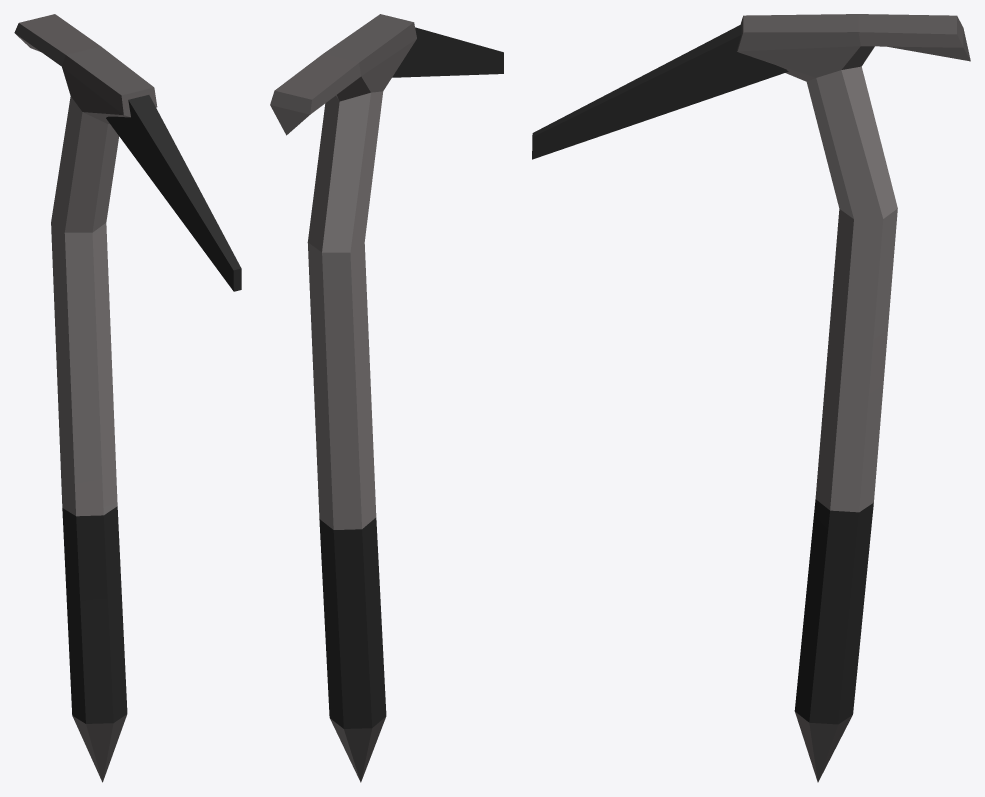
Rendered from ice-axe.glb.
3 views of the same model, side by side, from view 1: azimuth 30°, elevation 25°; view 2: azimuth 150°, elevation 25°; view 3: azimuth 270°, elevation 25° (orthographic). The views are drawn at different scales.
Visible parts, largest first — view 1: ice-axe; view 2: ice-axe; view 3: ice-axe.
Part boxes in pixels (<box>): ice-axe: <box>14,14,241,782</box>; ice-axe: <box>270,14,503,782</box>; ice-axe: <box>532,14,970,782</box>.
Size of the model in its own units: 0.0363 by 0.5945 by 0.3112.
Materials: 1 (1 with a texture image).
